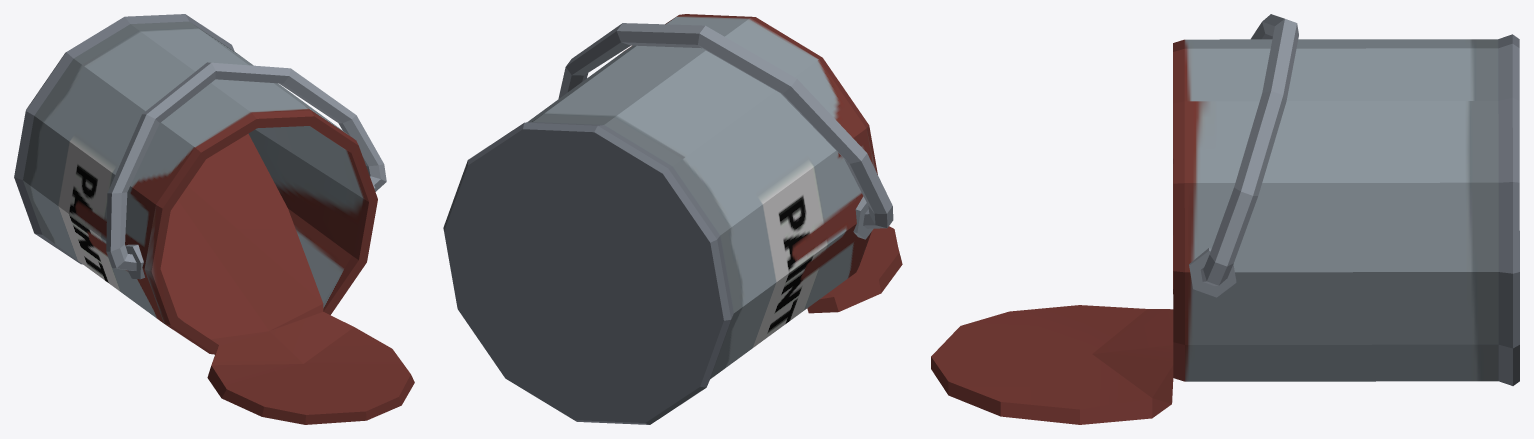
File: SM_Prop_PaintCan_03.obj
The picture shows the model from 3 angles, left to right: view 1: azimuth 30°, elevation 25°; view 2: azimuth 150°, elevation 25°; view 3: azimuth 270°, elevation 25°; orthographic projection. The views are drawn at different scales.
Parts seen in each view (by area): view 1: SM_Prop_PaintCan_03_0; view 2: SM_Prop_PaintCan_03_0; view 3: SM_Prop_PaintCan_03_0.
Boxes of the visible parts, <box> form: SM_Prop_PaintCan_03_0: <box>14,14,414,424</box>; SM_Prop_PaintCan_03_0: <box>443,14,902,424</box>; SM_Prop_PaintCan_03_0: <box>931,14,1519,424</box>.
Size of the model in its own units: 0.3478 by 0.3253 by 0.501.
Materials: 1 (1 with a texture image).
